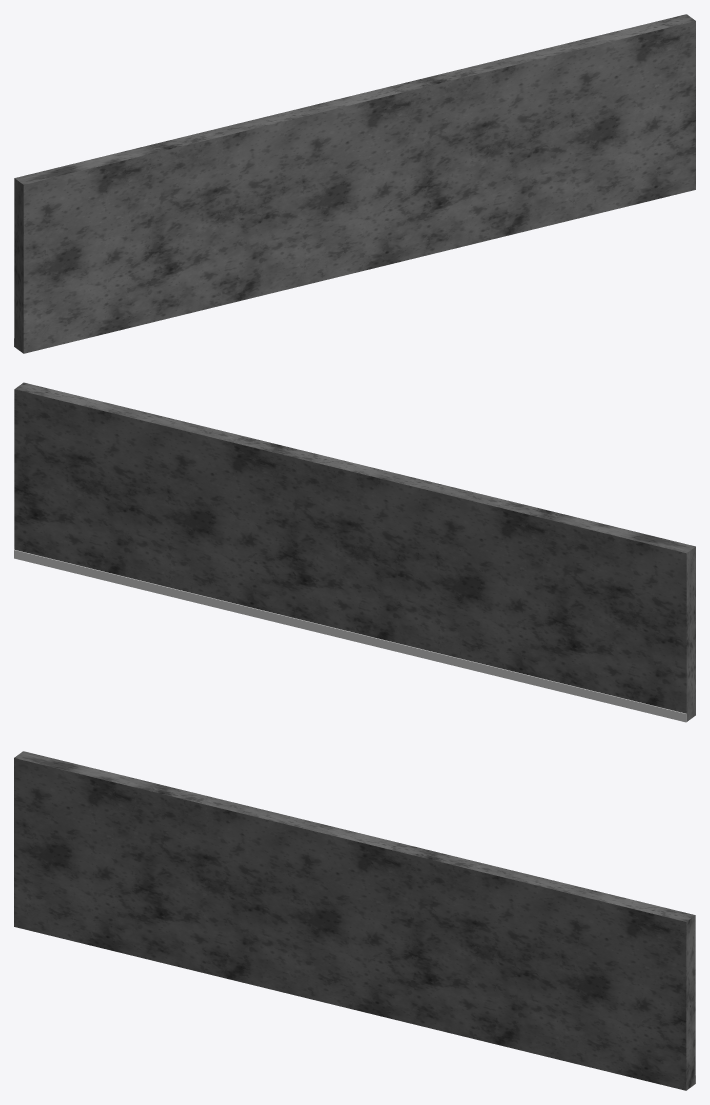
The model's file is grand grand petit.fbx.
The picture shows the model from 3 angles, top to bottom: view 1: azimuth 30°, elevation 25°; view 2: azimuth 150°, elevation 25°; view 3: azimuth 330°, elevation 25°; orthographic projection.
Parts seen in each view (by area): view 1: Box016, murOK, Box018; view 2: Box016, murOK, Box018, bande, Box017, bande001; view 3: Box016, murOK, Box018.
Boxes of the visible parts, bbox=[...] form: Box016: bbox=[418, 14, 695, 255]; murOK: bbox=[149, 80, 426, 320]; Box018: bbox=[14, 145, 158, 353]; Box016: bbox=[14, 382, 292, 614]; murOK: bbox=[283, 448, 561, 680]; Box018: bbox=[552, 514, 695, 721]; bande: bbox=[283, 615, 551, 689]; Box017: bbox=[14, 549, 282, 623]; bande001: bbox=[552, 681, 686, 722]; Box016: bbox=[417, 849, 695, 1090]; murOK: bbox=[148, 784, 426, 1024]; Box018: bbox=[14, 751, 156, 959].
Size of the model in its own units: 1250 by 300 by 31.41.
